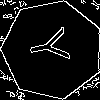Y: (27, 24, 80, 67)
